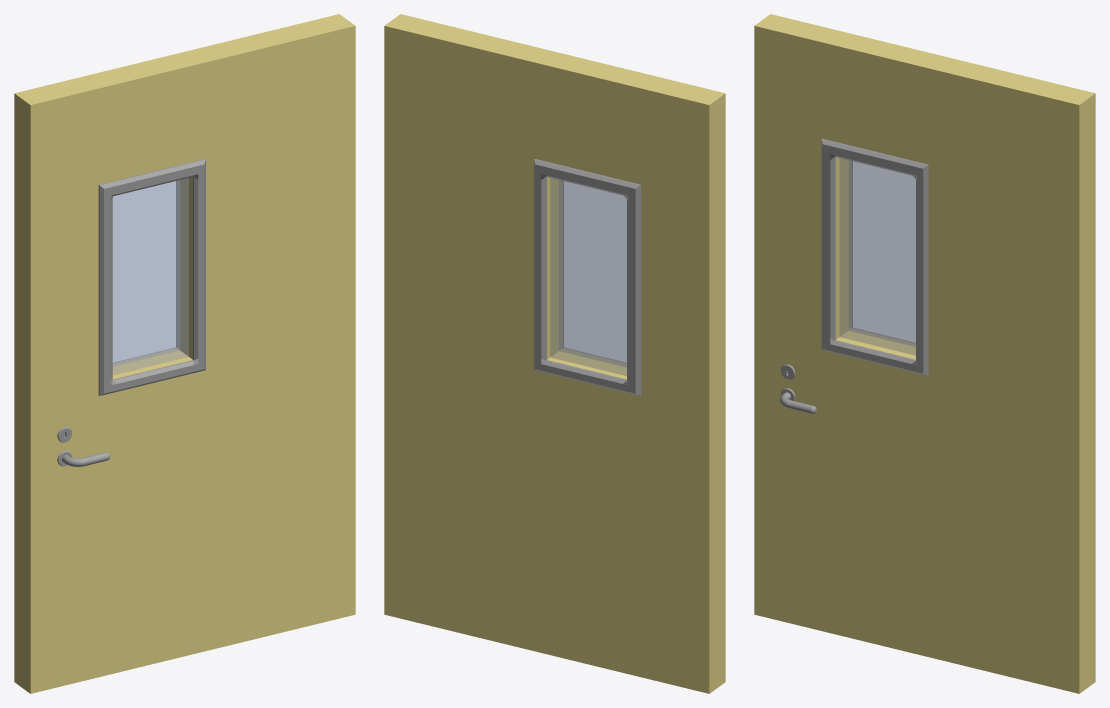
Rendered from Door.fbx.
The picture shows the model from 3 angles, left to right: view 1: azimuth 30°, elevation 25°; view 2: azimuth 150°, elevation 25°; view 3: azimuth 330°, elevation 25°; orthographic projection.
Visible parts, largest first — view 1: Cube; view 2: Cube; view 3: Cube.
Part boxes in pixels (x1=…): Cube: x1=14, y1=14, x2=355, y2=693; Cube: x1=384, y1=14, x2=725, y2=693; Cube: x1=754, y1=14, x2=1095, y2=693.
Size of the model in its own units: 520 by 900 by 81.97.
